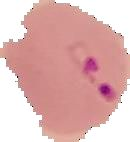parasitized: (65, 35, 118, 107)
